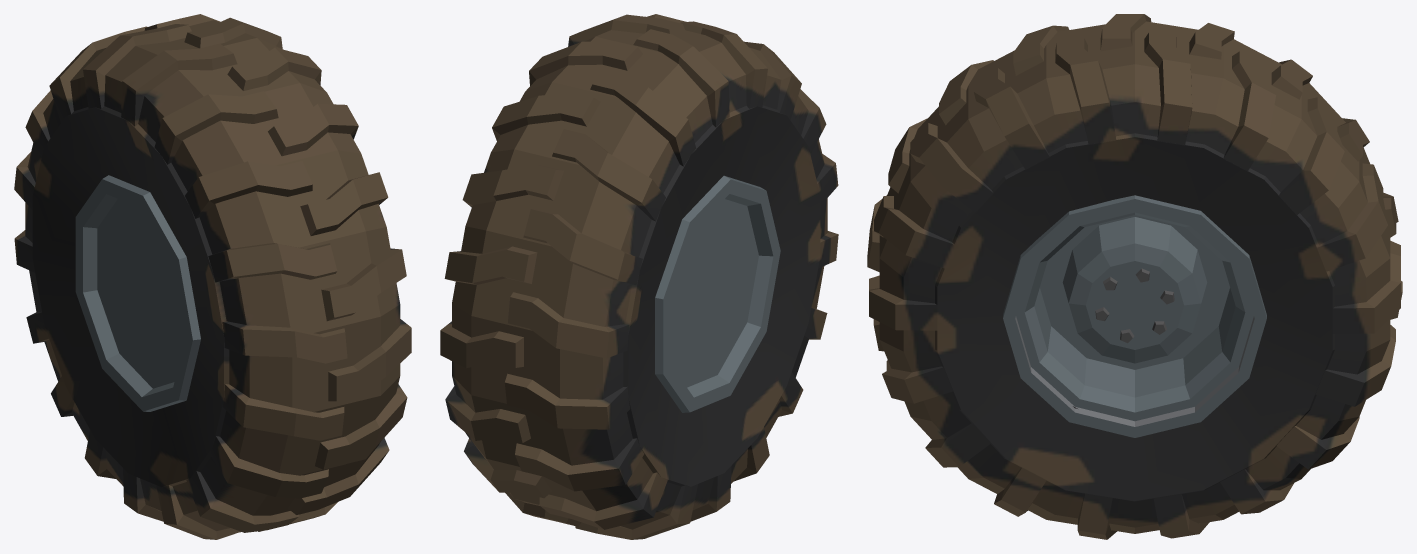
File: SM_Veh_Telehandler_01_Wheel_fl.obj
3 renders of one model, left to right at view 1: azimuth 30°, elevation 25°; view 2: azimuth 150°, elevation 25°; view 3: azimuth 270°, elevation 25°, orthographic. The views are drawn at different scales.
Parts seen in each view (by area): view 1: SM_Veh_Telehandler_01_Wheel_fl_0; view 2: SM_Veh_Telehandler_01_Wheel_fl_0; view 3: SM_Veh_Telehandler_01_Wheel_fl_0.
Boxes of the visible parts, bbox=[...] form: SM_Veh_Telehandler_01_Wheel_fl_0: bbox=[14, 14, 411, 539]; SM_Veh_Telehandler_01_Wheel_fl_0: bbox=[440, 14, 838, 539]; SM_Veh_Telehandler_01_Wheel_fl_0: bbox=[867, 14, 1402, 539].
Size of the model in its own units: 0.5325 by 1.42 by 1.42.
Materials: 1 (1 with a texture image).
